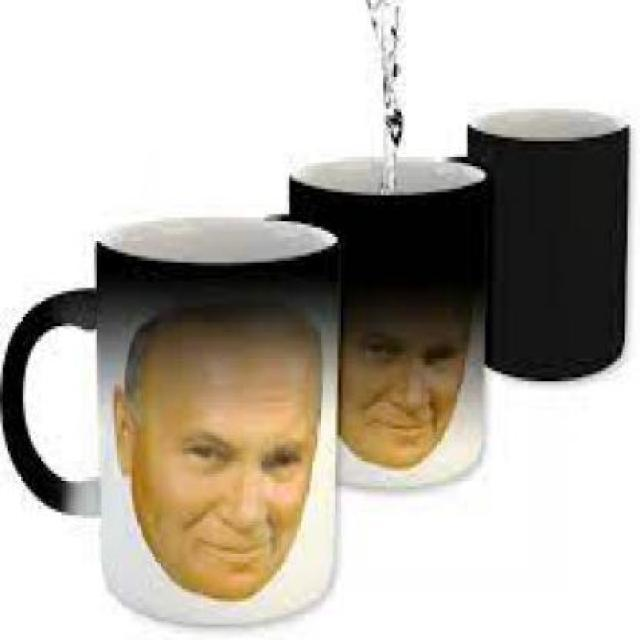cup: (0, 214, 345, 630), (285, 157, 498, 496), (462, 103, 635, 388)
